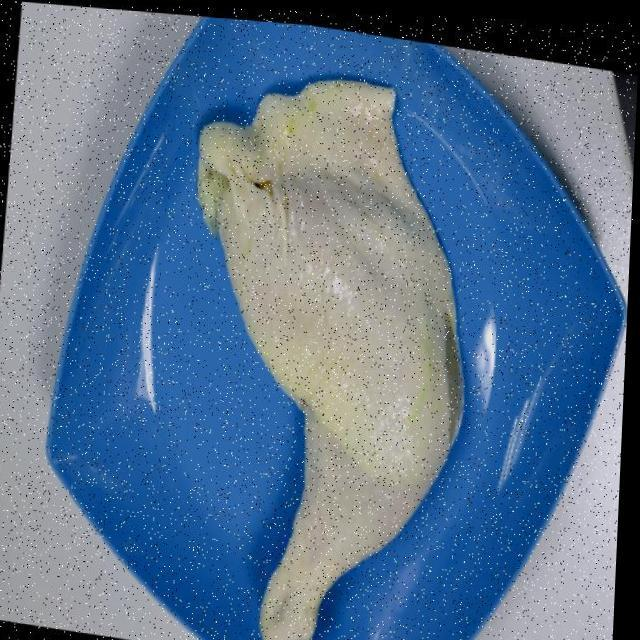quater: (176, 73, 477, 640)
